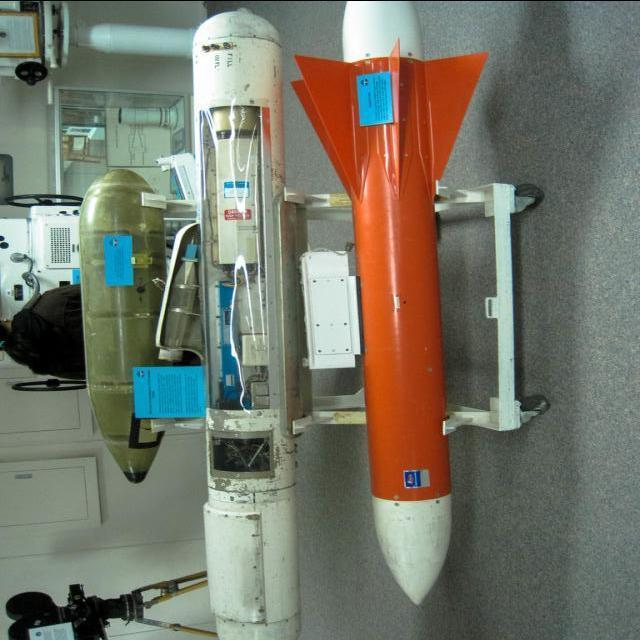missile: (286, 7, 494, 609), (192, 15, 312, 638), (65, 163, 180, 483)
